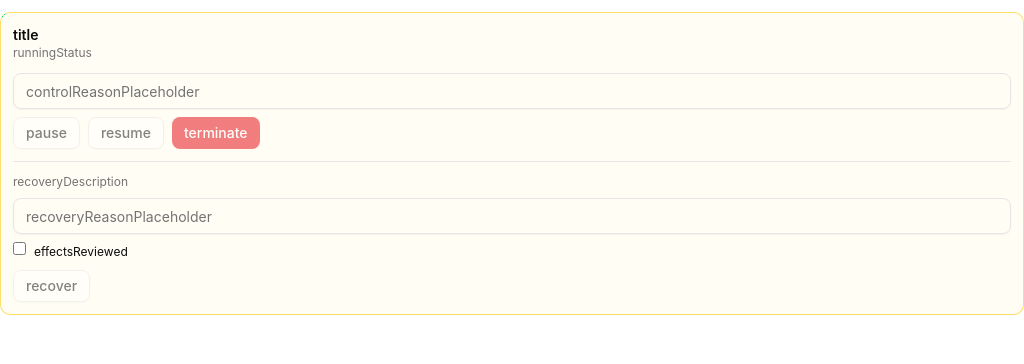
Test case: ExecutionControlsPanel › surfaces access-denial errors for a supported process control
Type "review" into the field labelled "controlReason" at (512, 91), box 13,73 -> 1011,109
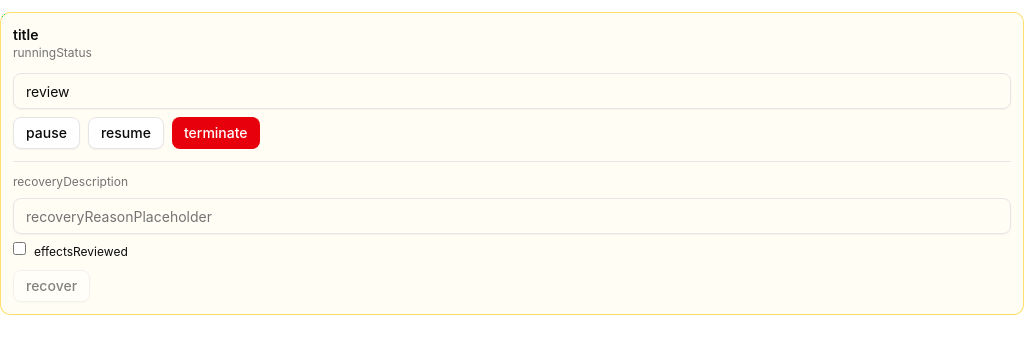
Click the button "terminate" at (216, 133), box 172,117 -> 260,149
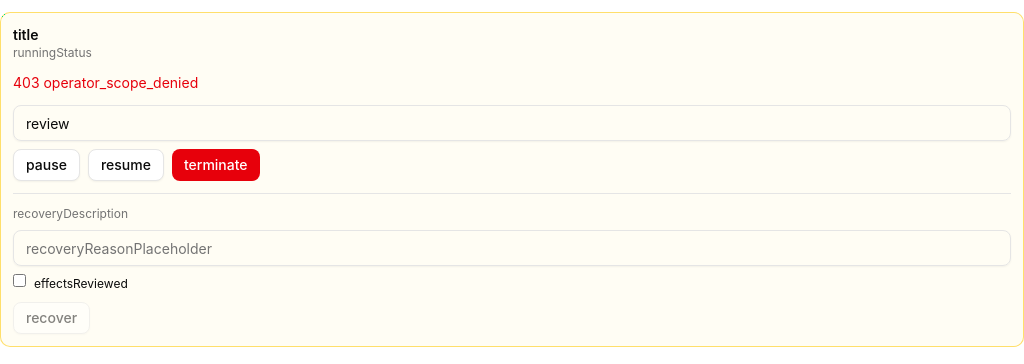
Now the message reads "403 operator_scope_denied", box 13,74 -> 198,91
